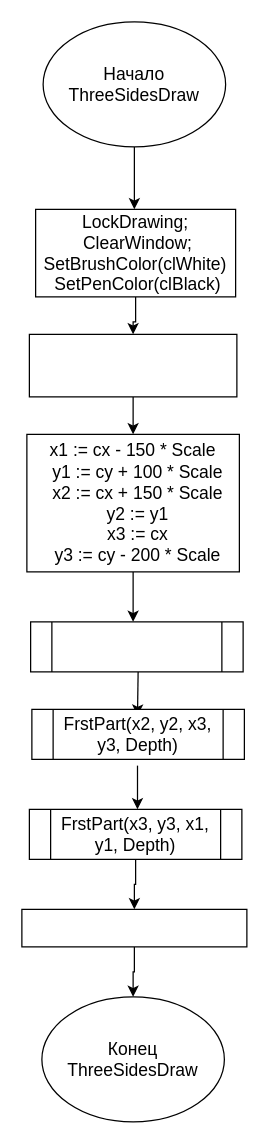
This 269x1144 diagram has some shape labels left out. Each missing label, with the centre of its shape:
cx := 300 + OffsetX cy := 300 + OffsetY: point 132,365
FrstPart(x1, y1, x2, y2, Depth): point 136,646
Redraw: point 134,927
